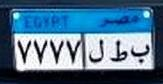7: (65, 40, 82, 64), (17, 38, 32, 65), (33, 39, 48, 64), (49, 39, 64, 63)
Taa: (109, 40, 129, 64)
baa: (130, 41, 152, 63)
laam: (88, 39, 107, 64)
